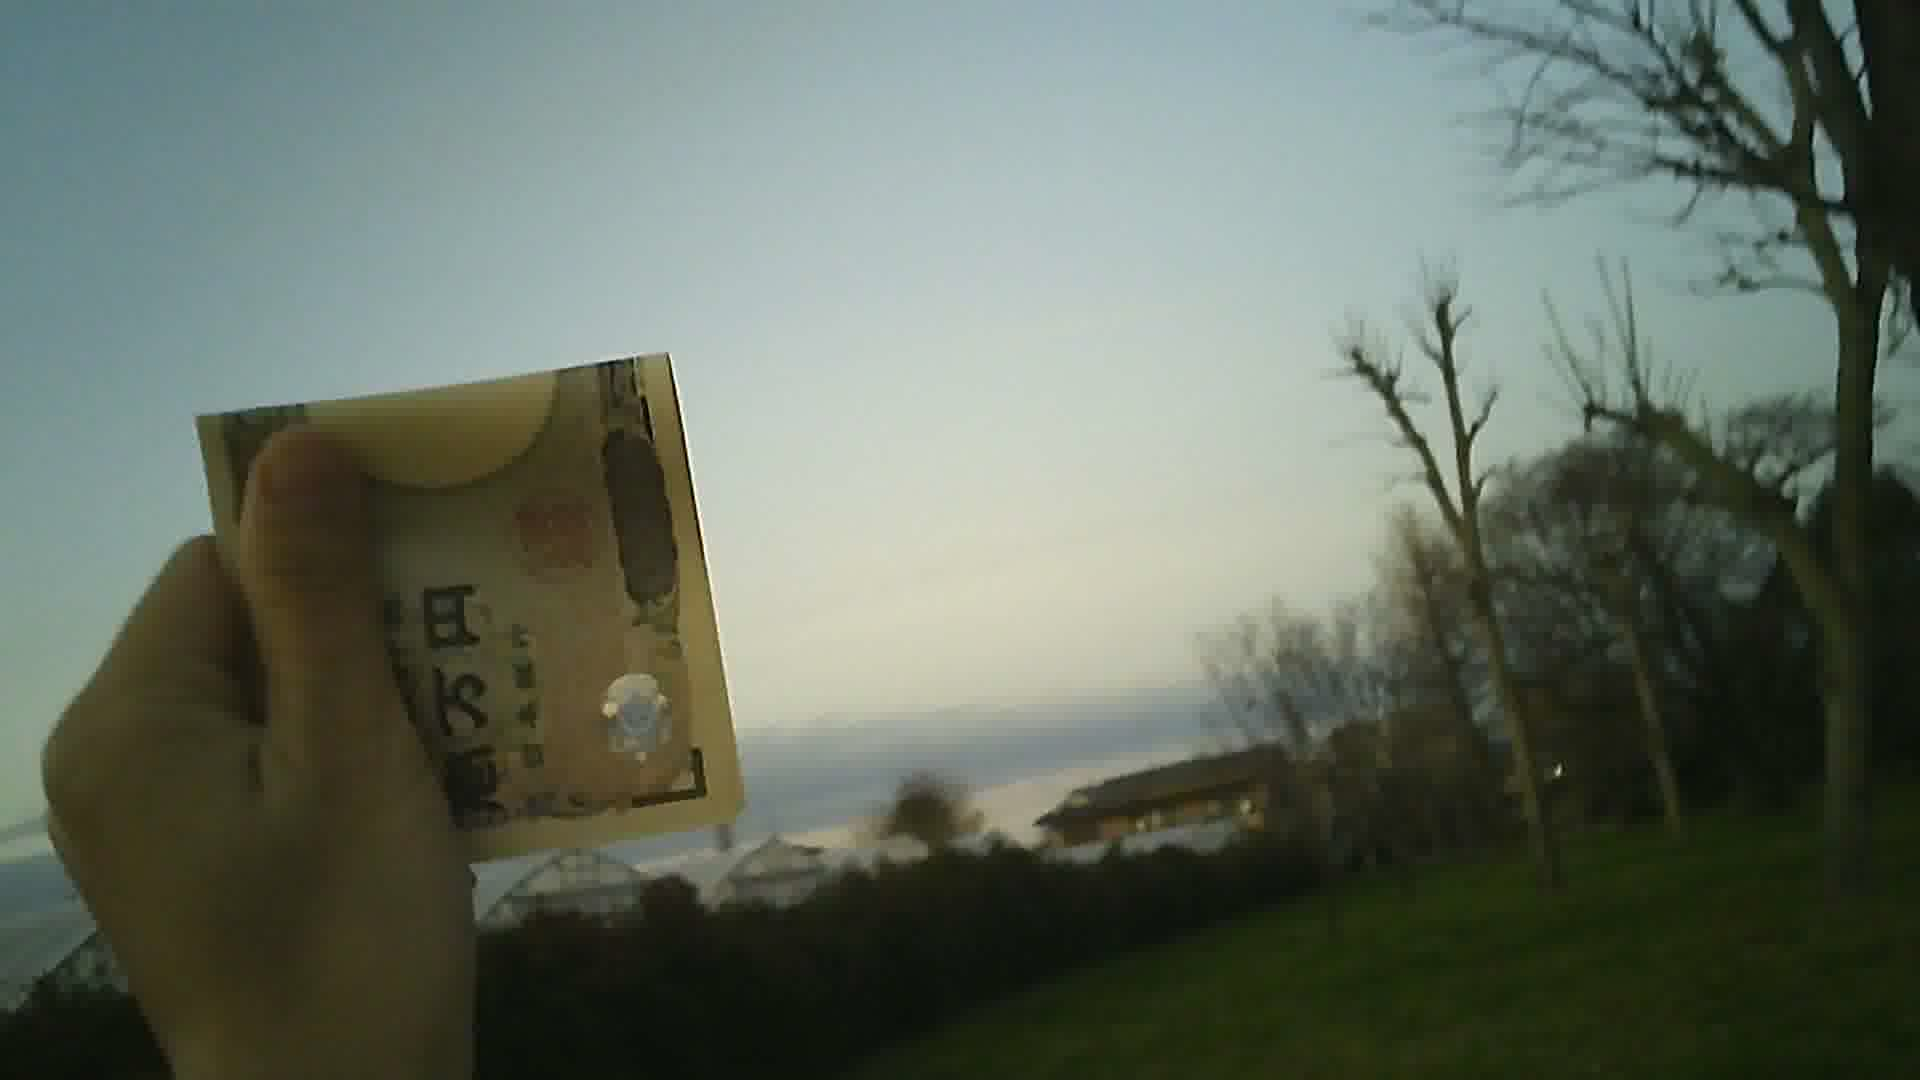10,000 Yen: (160, 336, 745, 864)
